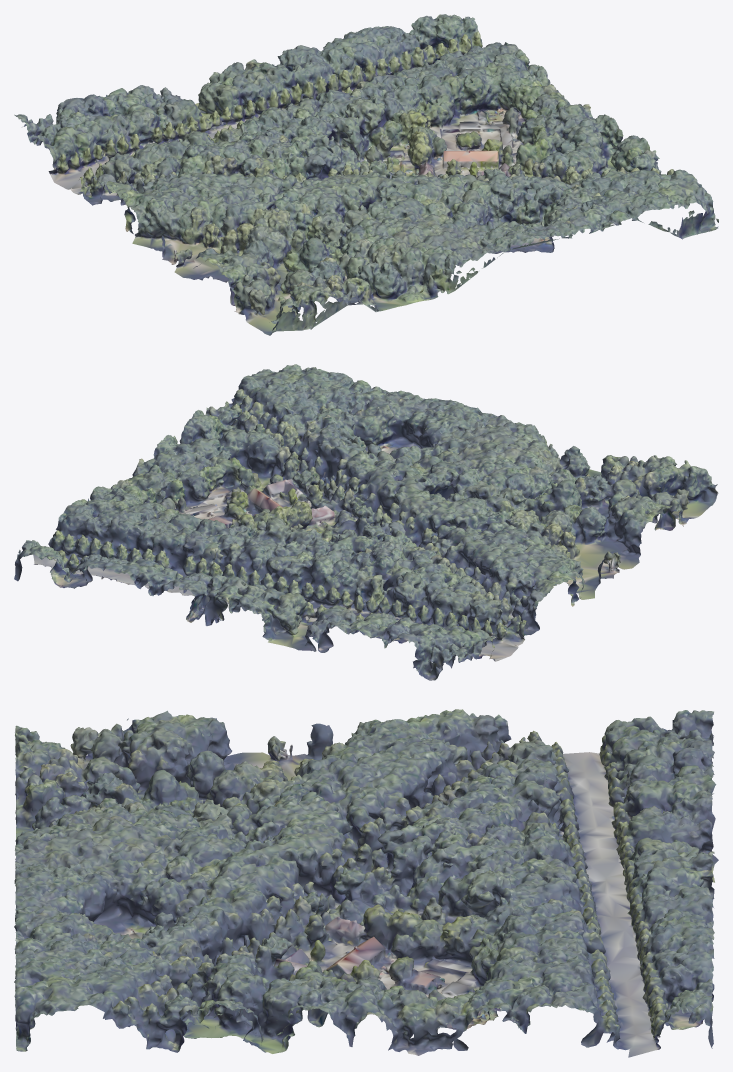
Rendered from surface-detail-3887_58193.glb.
3 views of the same model, one above another, from view 1: azimuth 30°, elevation 25°; view 2: azimuth 150°, elevation 25°; view 3: azimuth 270°, elevation 25° (orthographic). The views are drawn at different scales.
Visible parts, largest first — view 1: world; view 2: world; view 3: world.
Boxes of the visible parts, x1=… form: world: x1=14, y1=14, x2=718, y2=335; world: x1=14, y1=364, x2=718, y2=680; world: x1=14, y1=709, x2=718, y2=1057.
Size of the model in its own units: 378 by 35.21 by 365.
